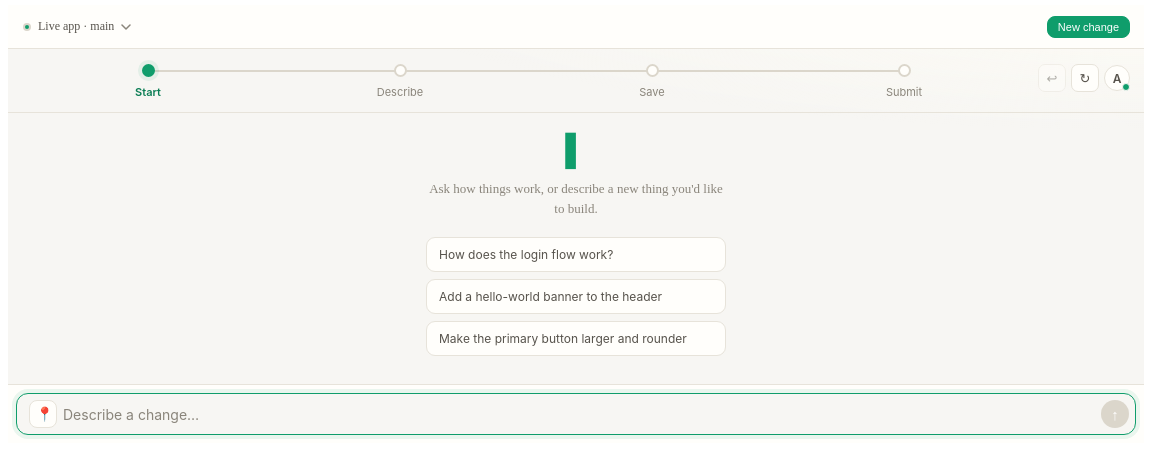
Test: Panel › surfaces health checks from /api/doctor
The width and height of the screenshot is (1152, 456).
Step 1. Click the button named "account and status" → x=1117, y=78, box left=1104, top=65, right=1130, bottom=91
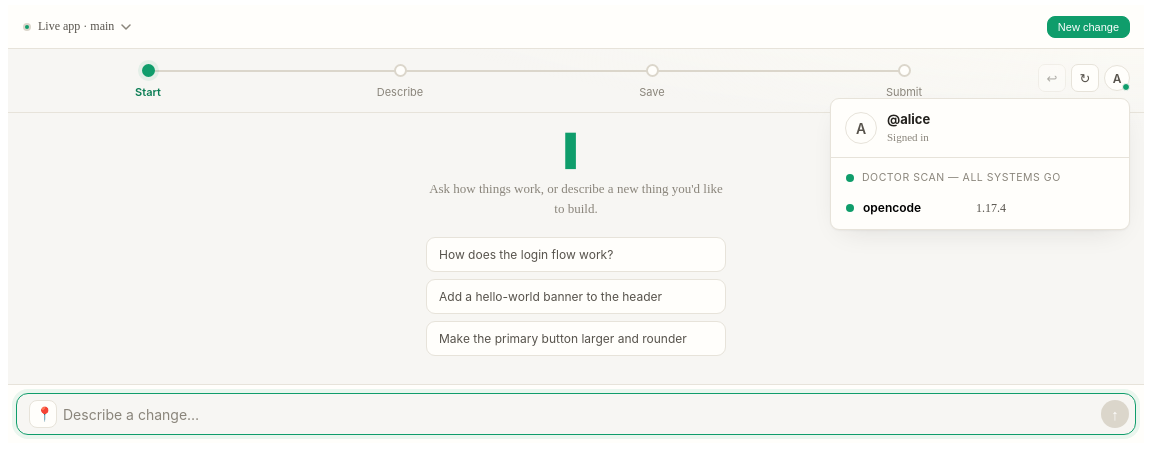
Result: the text "opencode" is shown at left=863, top=200, right=921, bottom=215
